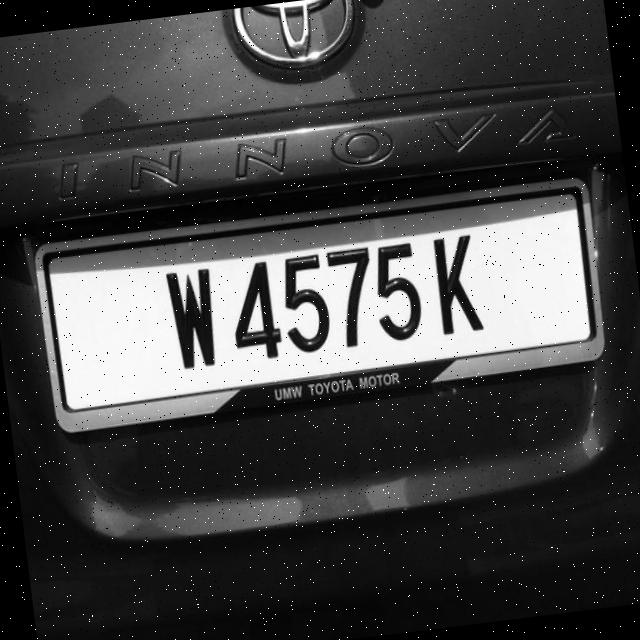License_Plate: (35, 178, 611, 429)
